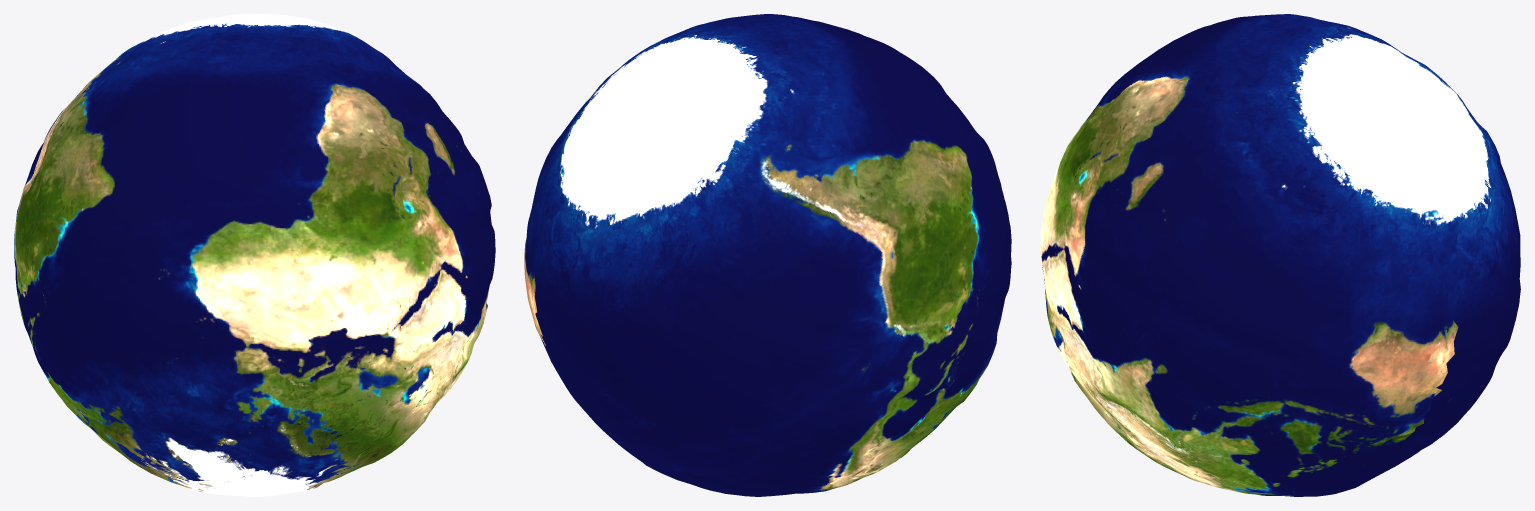
The picture shows the model from 3 angles, left to right: view 1: azimuth 30°, elevation 25°; view 2: azimuth 150°, elevation 25°; view 3: azimuth 270°, elevation 25°; orthographic projection.
Parts seen in each view (by area): view 1: Planet_2; view 2: Planet_2; view 3: Planet_2.
Boxes of the visible parts, x1,y1,x2,y2 form: Planet_2: (14, 14, 495, 496); Planet_2: (524, 14, 1011, 496); Planet_2: (1040, 14, 1520, 496).
Bounding box in the file's own units: 1.32 × 1.31 × 1.32.
1 material, 1 textured.
